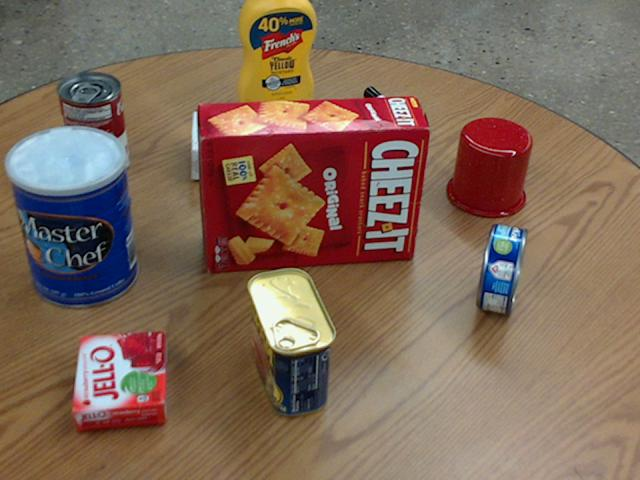cracker_box: (199, 96, 428, 270)
gelatin_box: (71, 330, 165, 431)
large_marker: (364, 86, 427, 138)
master_chef_can: (6, 127, 136, 308)
mug: (445, 117, 530, 216)
mustard_bottle: (237, 0, 316, 112)
potted_meat_can: (246, 267, 333, 414)
sugar_box: (189, 111, 343, 178)
tomato_soup_can: (57, 71, 128, 178)
tuna_fish_can: (477, 223, 526, 314)
